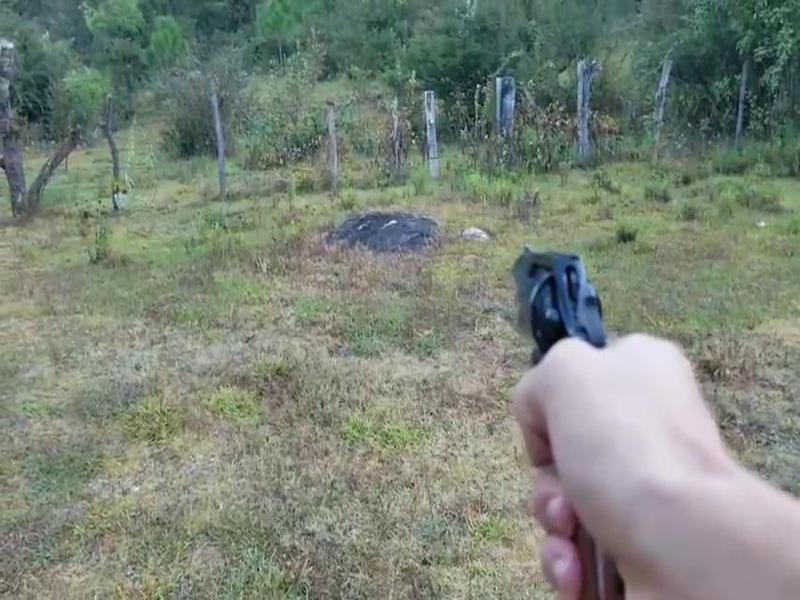Revolver: (476, 224, 650, 577)
